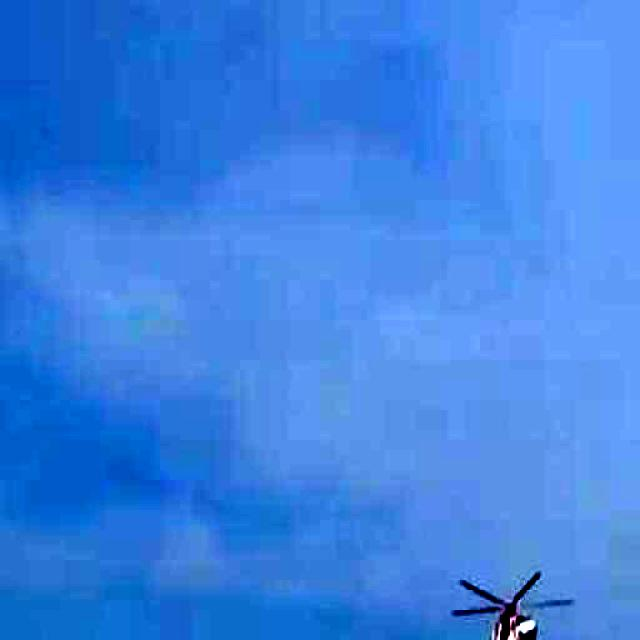drone: (441, 565, 568, 640)
